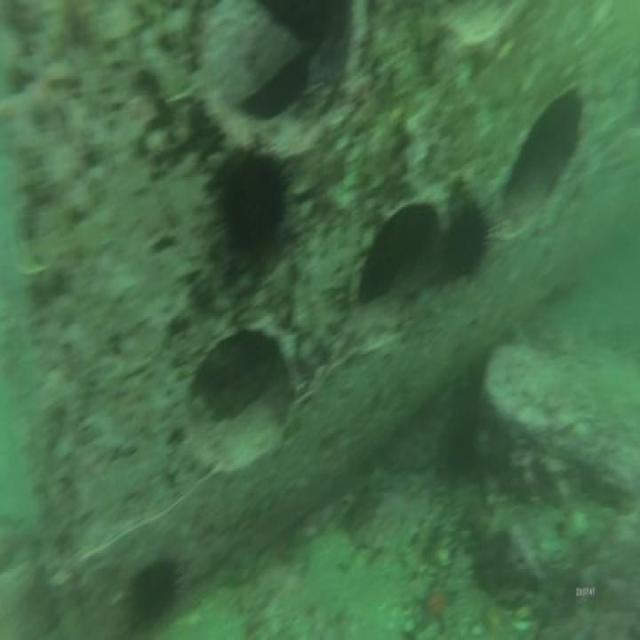echinus: (218, 145, 284, 269), (437, 193, 489, 289), (132, 556, 184, 636)
starfish: (411, 569, 461, 637)
